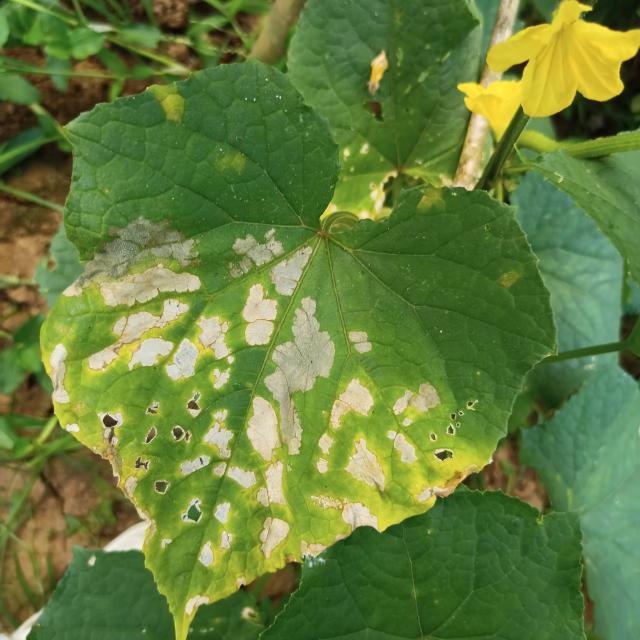disease_cucumber: (43, 222, 454, 612), (141, 76, 196, 130)
